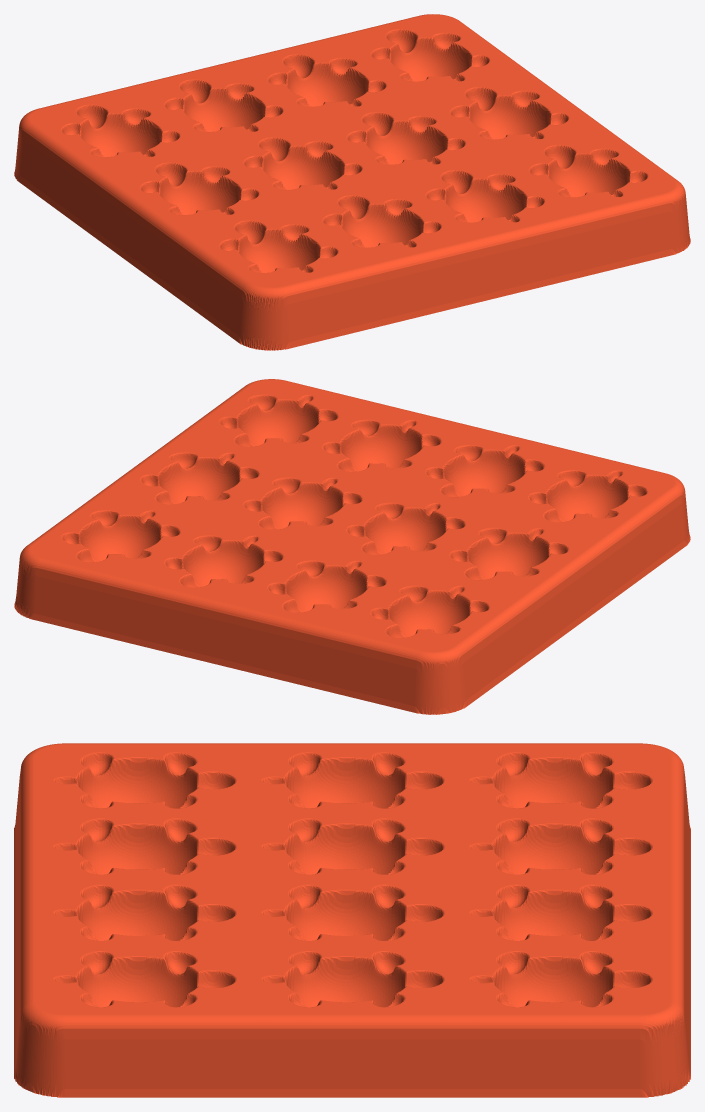
File: mold.glb
3 views of the same model, one above another, from view 1: azimuth 30°, elevation 25°; view 2: azimuth 150°, elevation 25°; view 3: azimuth 270°, elevation 25° (orthographic). The views are drawn at different scales.
Visible parts, largest first — view 1: geometry_0; view 2: geometry_0; view 3: geometry_0.
Part boxes in pixels (left/top/right/bottom): geometry_0: left=14, top=14, right=690, bottom=350; geometry_0: left=14, top=379, right=690, bottom=714; geometry_0: left=14, top=743, right=690, bottom=1097.
Bounding box in the file's own units: 0.1205 × 0.0145 × 0.12.
